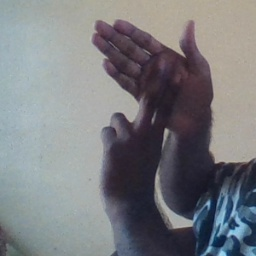N: (80, 11, 215, 163)
